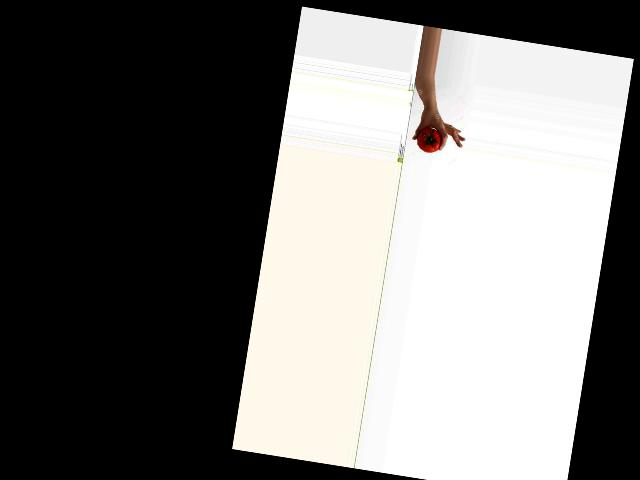tomato: (415, 126, 443, 154)
